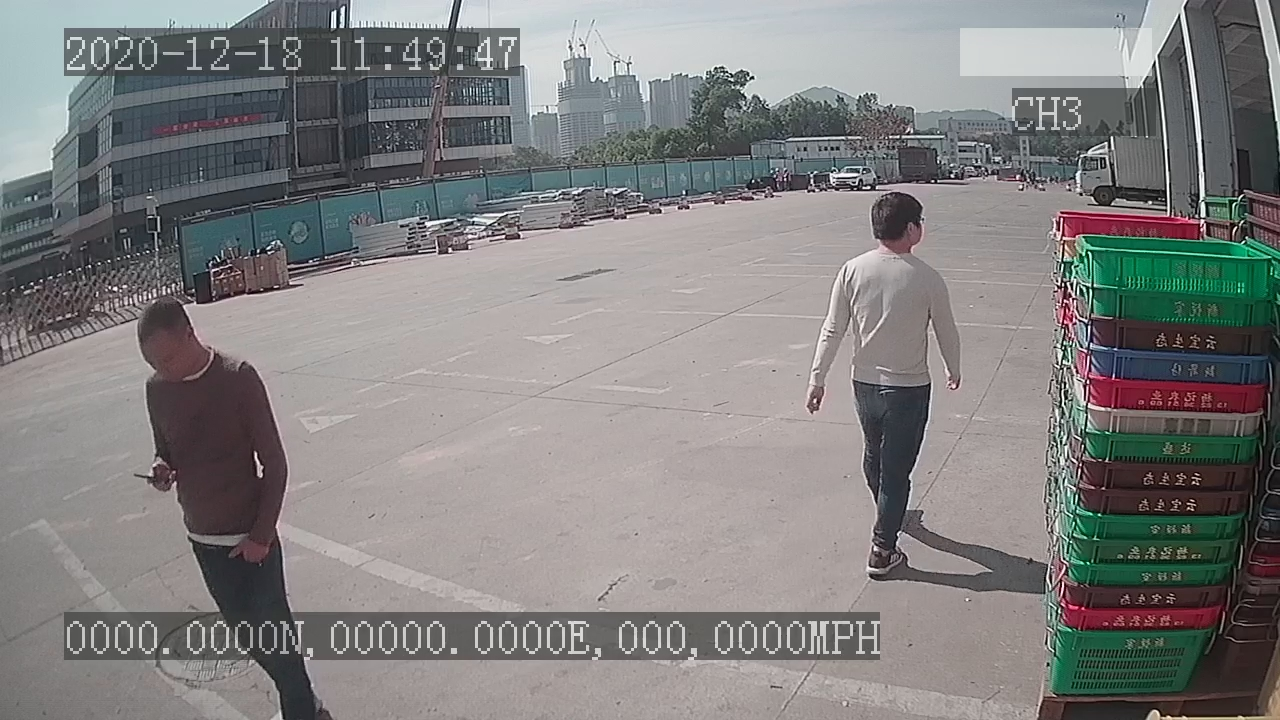person: (799, 185, 968, 583)
